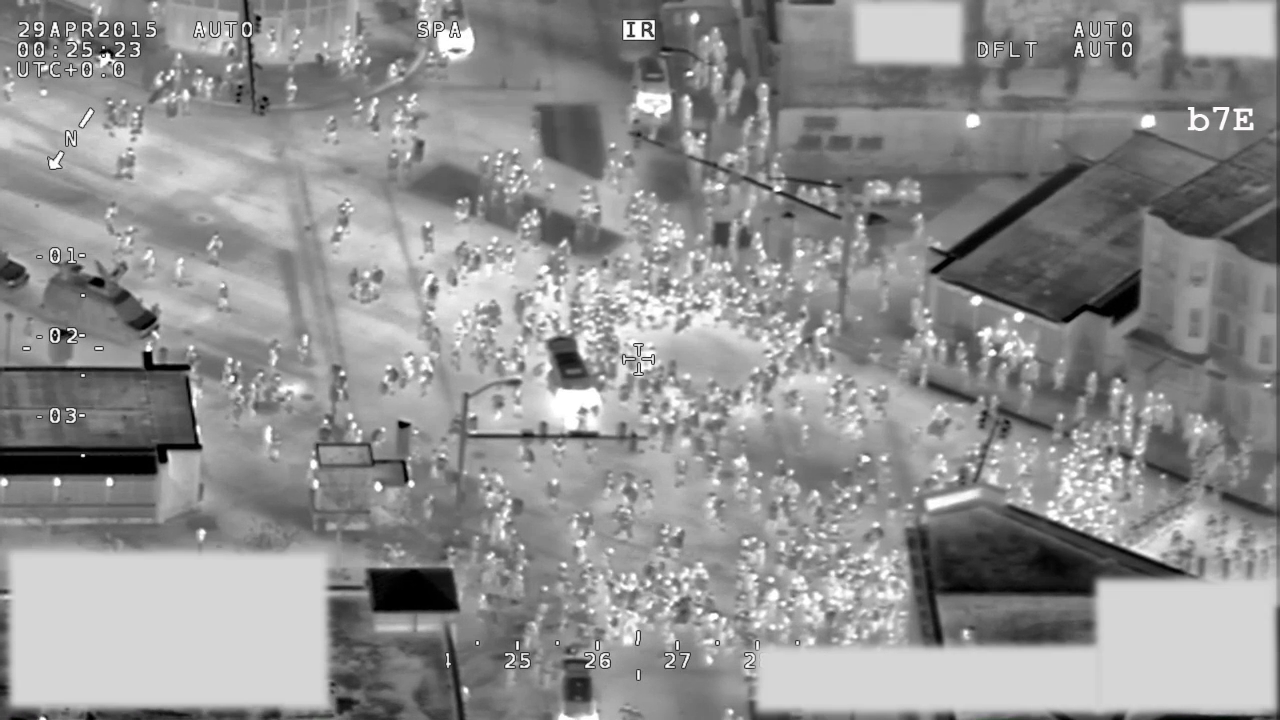vehicle: (39, 254, 167, 357), (536, 331, 608, 428), (626, 51, 680, 139), (430, 1, 480, 65), (554, 656, 603, 720)
